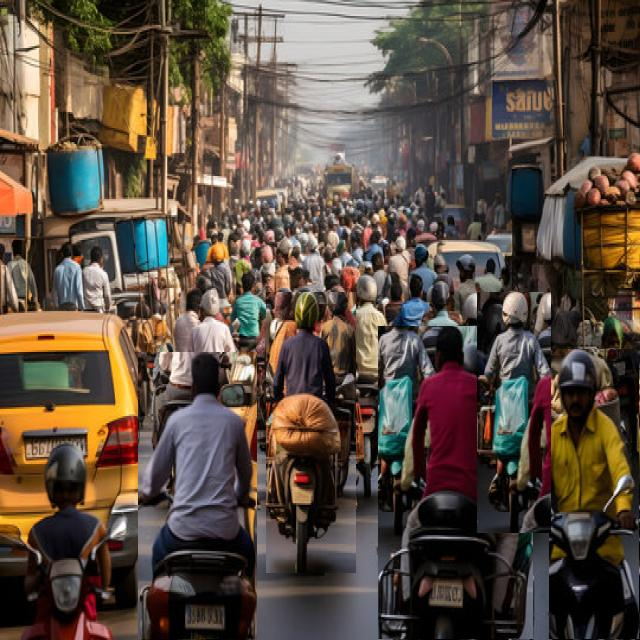car: (0, 309, 177, 617)
motorcycle: (379, 327, 533, 639), (139, 353, 257, 640), (550, 349, 639, 639), (266, 293, 356, 573), (22, 444, 131, 638), (477, 293, 551, 533), (350, 276, 393, 496)
